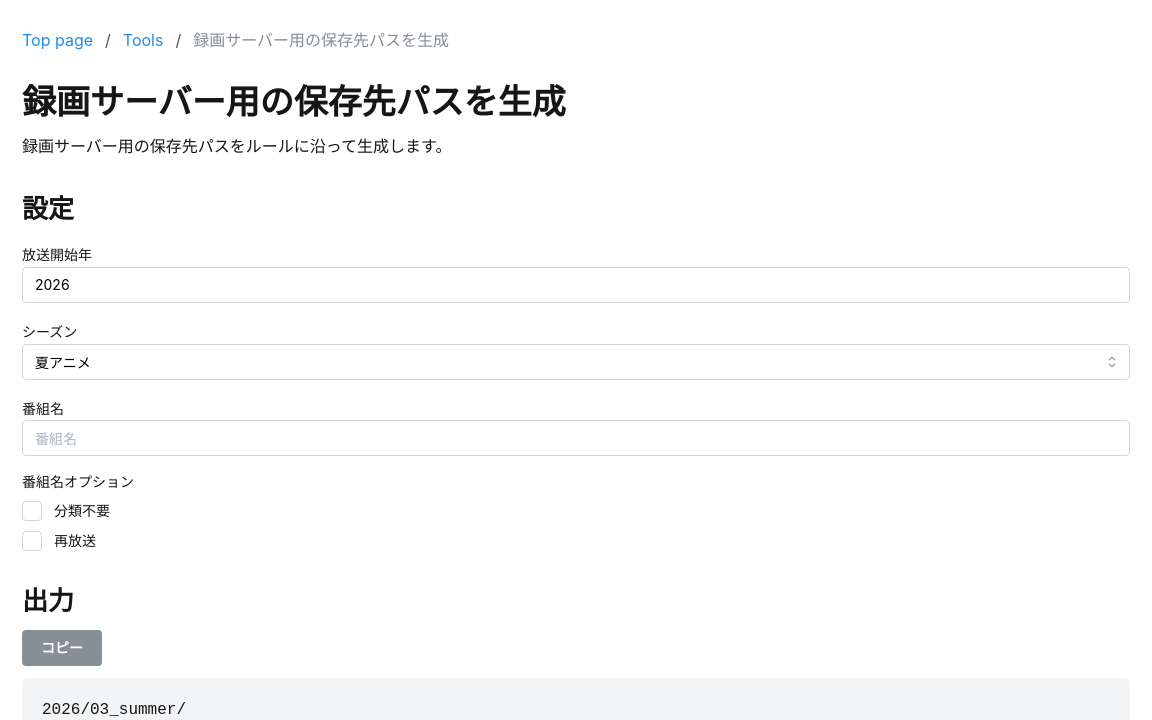
Test case: EpgsRecordedNamePage › 分類不要を選ぶと番組名欄が無効になり、パスに 10_other が入る
Type "my-anime" into the field labelled "番組名".
click(576, 438); type("my-anime")  # box 22,420 -> 1130,456
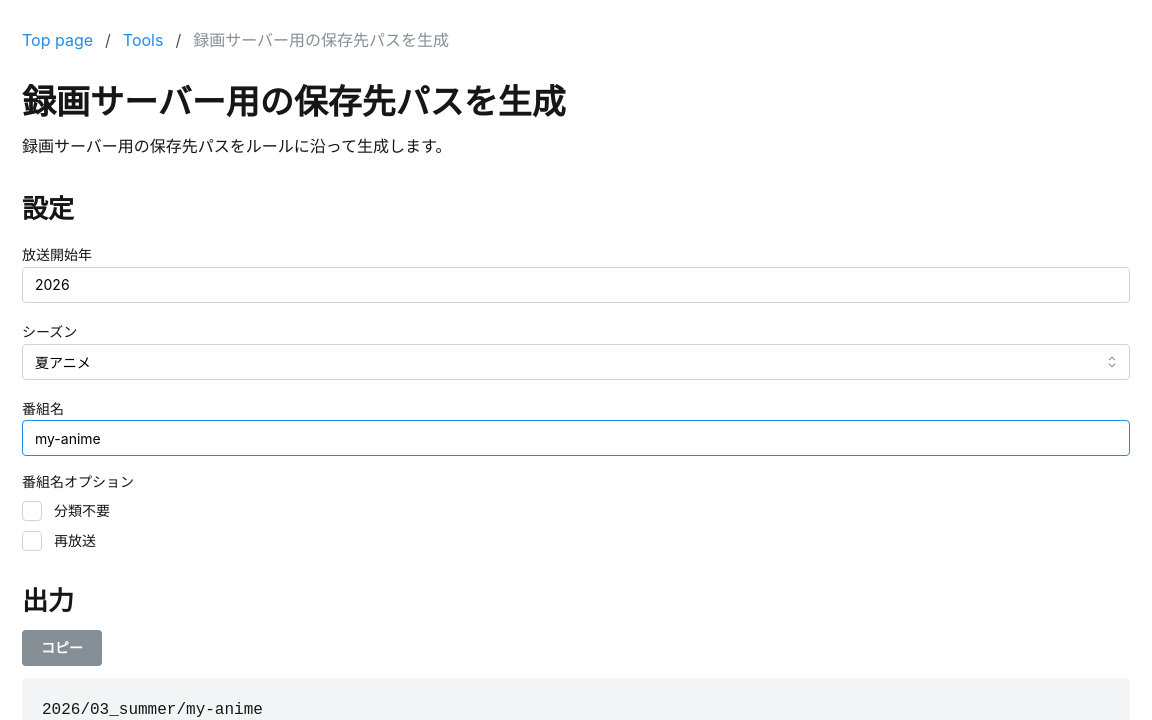
Click the checkbox labelled "分類不要".
click(32, 511)  # box 22,501 -> 42,521
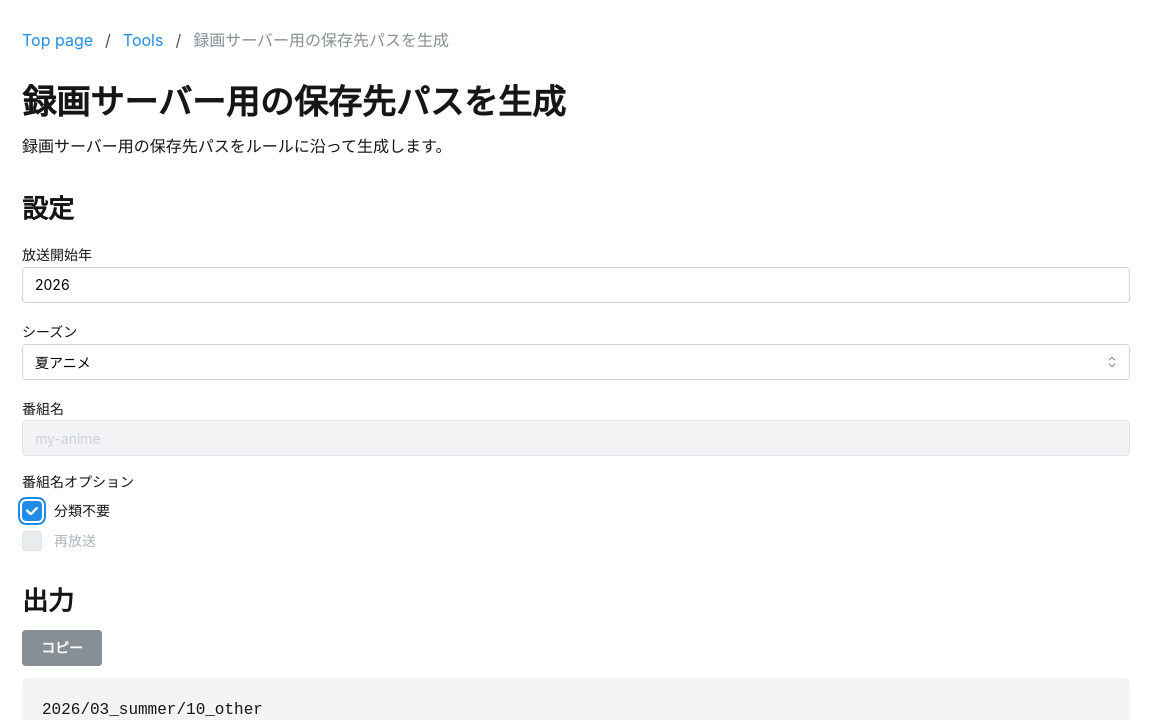
Expected: the checkbox labelled "再放送" is disabled, 22,531 -> 42,551
Expected: the field labelled "番組名" is disabled, 22,420 -> 1130,456
